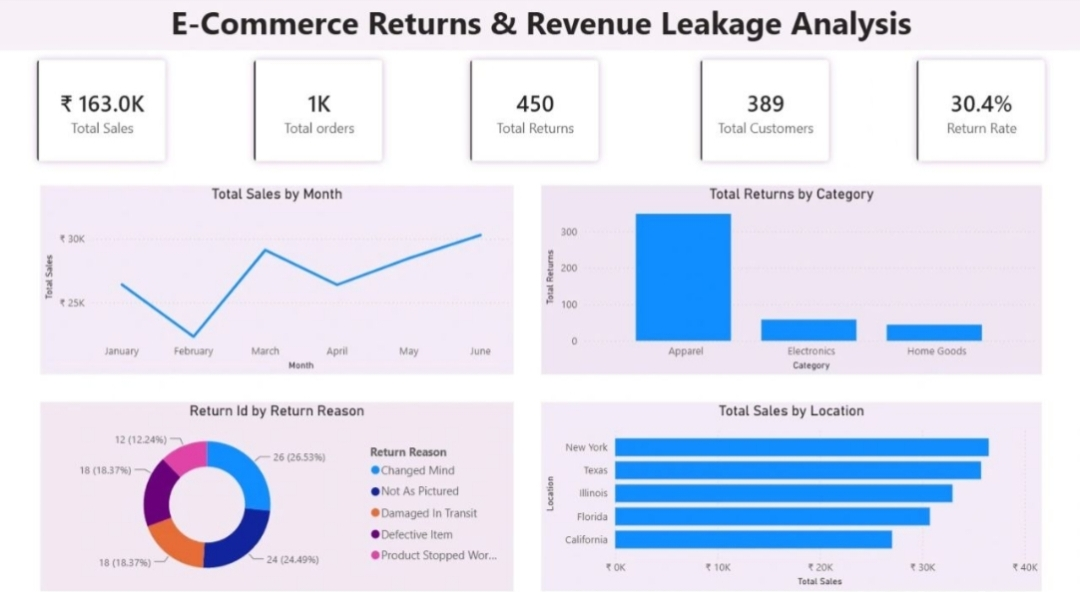

What the dashboard file says about the page in this screenshot:
{"tool":"powerbi","page":{"name":"Page 1","canvas":[1280,720],"ordinal":0},"visuals":[{"type":"cardVisual","fields":{"Data":["public customer_profiles.Total Sales"]},"box":[16,48,208,176],"z":0},{"type":"cardVisual","fields":{"Data":["public customer_profiles.Total_orders"]},"box":[272,48,208,176],"z":1000},{"type":"cardVisual","fields":{"Data":["public customer_profiles.Total Returns"]},"box":[528,48,208,176],"z":2000},{"type":"cardVisual","fields":{"Data":["public customer_profiles.Total Customers"]},"box":[800,48,208,176],"z":3000},{"type":"cardVisual","fields":{"Data":["public customer_profiles.Return Rate"]},"box":[1056,48,208,176],"z":4000},{"type":"textbox","box":[0,0,1280,64],"z":5000},{"type":"lineChart","fields":{"Category":["public orders_raw.order_date.Variation.Date Hierarchy.Month"],"Y":["public customer_profiles.Total Sales"]},"box":[48,224,560,224],"z":6000},{"type":"clusteredColumnChart","fields":{"Category":["public orders_raw.category"],"Y":["public customer_profiles.Total Returns"]},"box":[640,224,592,224],"z":7000},{"type":"donutChart","fields":{"Category":["public returns.return_reason"],"Y":["CountNonNull(public returns.return_id)"]},"box":[48,480,560,224],"z":8000},{"type":"clusteredBarChart","fields":{"Category":["public customer_profiles.location"],"Y":["public customer_profiles.Total Sales"]},"box":[640,480,592,224],"z":9000}]}

Visuals, with their boxes in screenshot pixels (x1, y1, x2, y2), scaled from the page's 1280x720 canvas onto the 1080x592 screenshot:
cardVisual - public customer_profiles.Total Sales: <box>14,39,189,184</box>
cardVisual - public customer_profiles.Total_orders: <box>230,39,405,184</box>
cardVisual - public customer_profiles.Total Returns: <box>446,39,621,184</box>
cardVisual - public customer_profiles.Total Customers: <box>675,39,850,184</box>
cardVisual - public customer_profiles.Return Rate: <box>891,39,1066,184</box>
textbox: <box>0,0,1079,53</box>
lineChart - public orders_raw.order_date.Variation.Date Hierarchy.Month x public customer_profiles.Total Sales: <box>40,184,513,368</box>
clusteredColumnChart - public orders_raw.category x public customer_profiles.Total Returns: <box>540,184,1040,368</box>
donutChart - public returns.return_reason x CountNonNull(public returns.return_id): <box>40,395,513,579</box>
clusteredBarChart - public customer_profiles.location x public customer_profiles.Total Sales: <box>540,395,1040,579</box>
